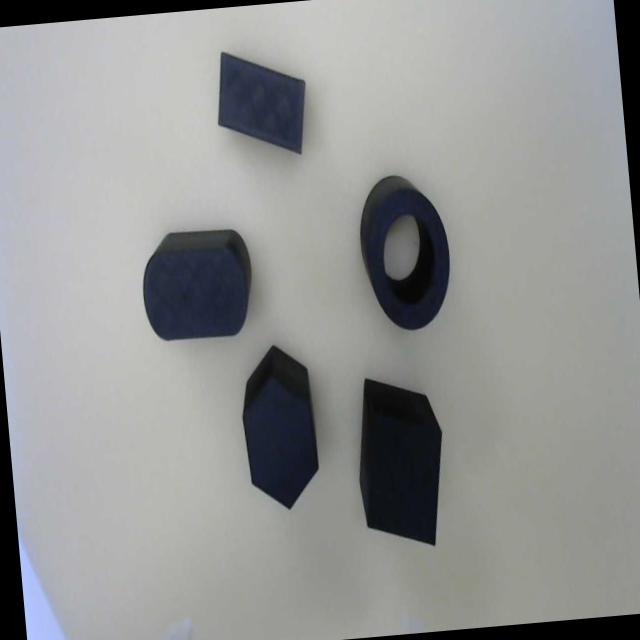hexagon: (238, 370, 324, 517)
oval: (140, 245, 250, 344)
rectangle: (218, 52, 306, 155)
ring: (366, 187, 452, 329)
square: (368, 414, 442, 546)
